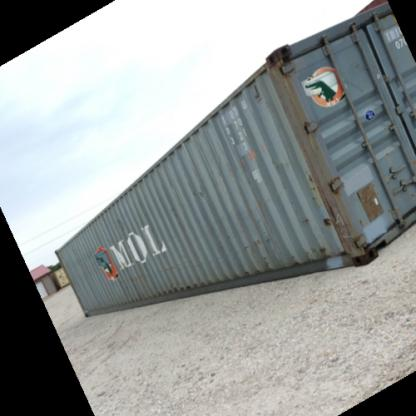Damage: (101, 218, 158, 302), (288, 243, 340, 265), (230, 260, 276, 281), (304, 168, 324, 208), (238, 232, 278, 249), (185, 183, 214, 202), (272, 153, 296, 170), (301, 210, 316, 228)
